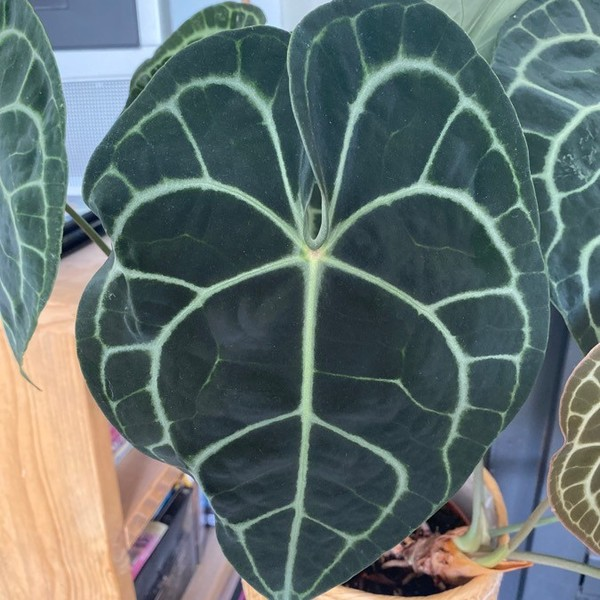obstacle: (69, 23, 570, 573)
